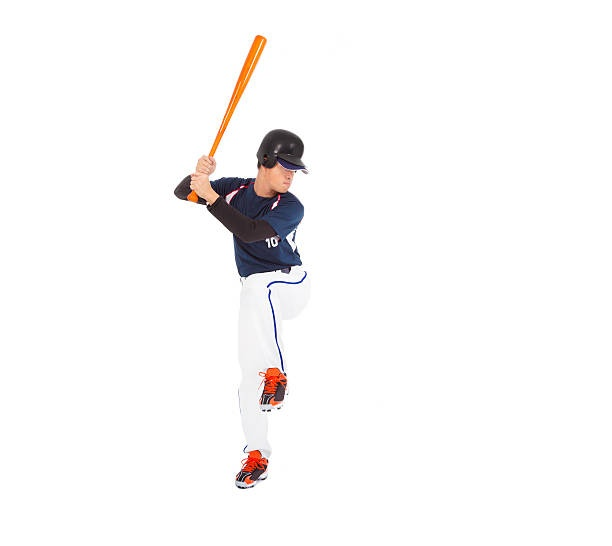bita: (191, 30, 268, 201)
